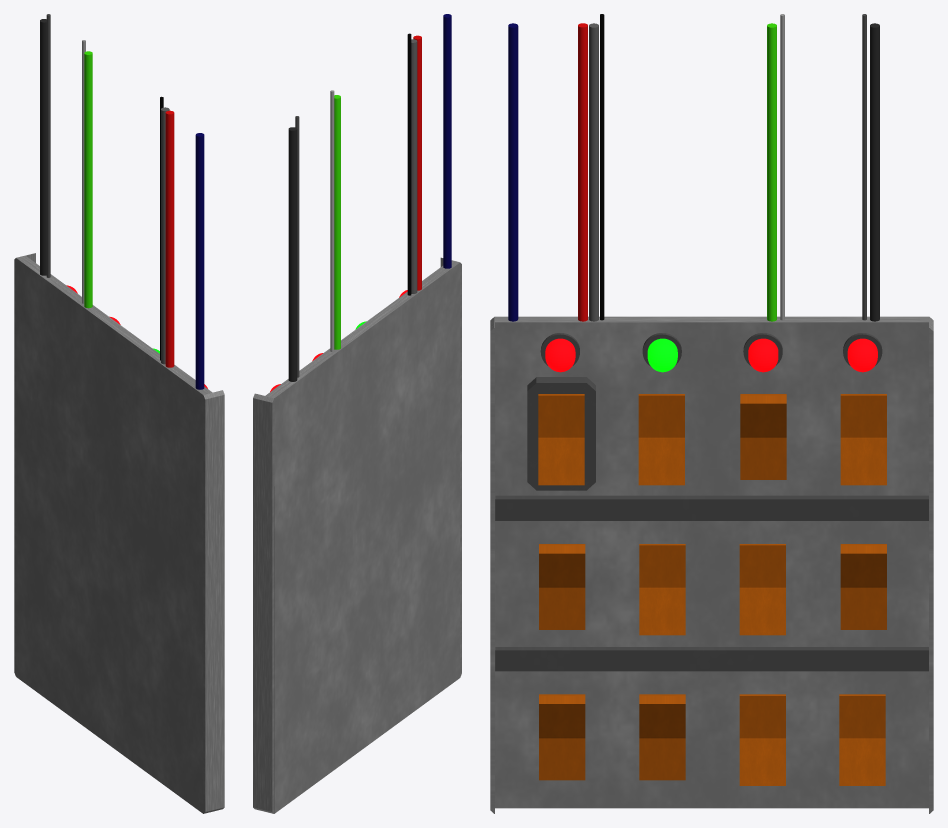
The model's file is Final_Filler_Switch panel 3.glb.
3 views of the same model, side by side, from view 1: azimuth 30°, elevation 25°; view 2: azimuth 150°, elevation 25°; view 3: azimuth 270°, elevation 25° (orthographic). The views are drawn at different scales.
Visible parts, largest first — view 1: Cube, Cylinder.008, Cylinder.014, Cylinder.012, Cylinder.013, Cylinder.015, Cylinder.009, Cylinder.011; view 2: Cube, Cylinder.013, Cylinder.014, Cylinder.012, Cylinder.009, Cylinder.010, Cylinder.011, Cylinder.008, Cylinder.015; view 3: Cube, Cube.014, Cube.002, Cube.008, Cube.012, Cube.013, Cube.003, Cube.005, Cube.007, Cube.011, Cube.010, Cube.004 (+15 smaller).
Boxes of the visible parts, <box> form: Cube: <box>14,253,224,813</box>; Cylinder.008: <box>165,110,174,367</box>; Cylinder.014: <box>195,133,204,389</box>; Cylinder.012: <box>84,51,92,308</box>; Cylinder.013: <box>40,19,46,275</box>; Cylinder.015: <box>46,14,50,277</box>; Cylinder.009: <box>161,107,169,364</box>; Cylinder.011: <box>82,40,85,303</box>; Cube: <box>253,257,461,813</box>; Cylinder.013: <box>288,127,297,381</box>; Cylinder.014: <box>443,14,451,268</box>; Cylinder.012: <box>334,95,340,349</box>; Cylinder.009: <box>411,39,417,293</box>; Cylinder.010: <box>407,33,411,295</box>; Cylinder.011: <box>330,90,334,351</box>; Cylinder.008: <box>413,35,421,290</box>; Cylinder.015: <box>295,116,299,377</box>; Cube: <box>490,316,933,813</box>; Cube.014: <box>495,495,928,671</box>; Cube.002: <box>538,394,584,485</box>; Cube.008: <box>639,544,685,635</box>; Cube.012: <box>739,694,785,785</box>; Cube.013: <box>839,694,885,785</box>; Cube.003: <box>638,394,684,485</box>; Cube.005: <box>840,394,886,485</box>; Cube.007: <box>739,544,785,635</box>; Cube.011: <box>639,694,685,780</box>; Cube.010: <box>539,694,585,780</box>; Cube.004: <box>740,394,786,479</box>.
Bounding box in the file's own units: 0.8327 × 15.65 × 7.95.
Materials: 17 (17 with a texture image).
